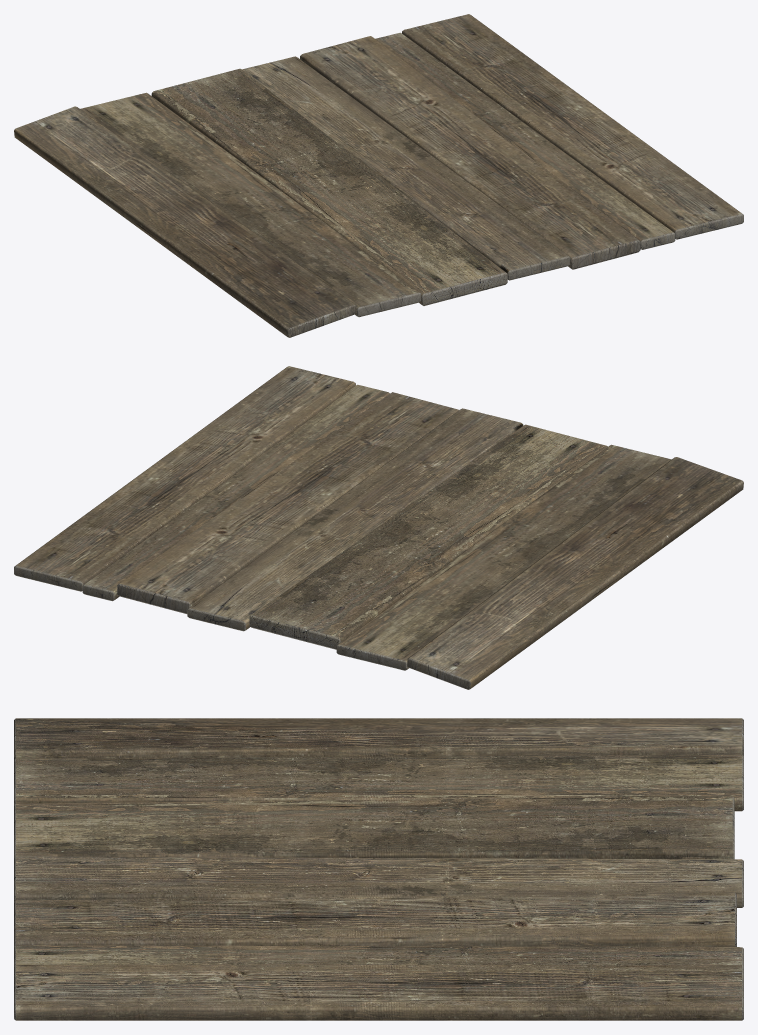
File: Porch_Floor2.fbx
3 renders of one model, top to bottom at view 1: azimuth 30°, elevation 25°; view 2: azimuth 150°, elevation 25°; view 3: azimuth 270°, elevation 25°, orthographic. The views are drawn at different scales.
Visible parts, largest first — view 1: polySurface197; view 2: polySurface197; view 3: polySurface197.
Part boxes in pixels (<box>): polySurface197: <box>14,14,743,337</box>; polySurface197: <box>14,366,743,689</box>; polySurface197: <box>14,718,743,1020</box>.
Bounding box in the file's own units: 209 × 8.58 × 217.
1 material, 1 textured.
